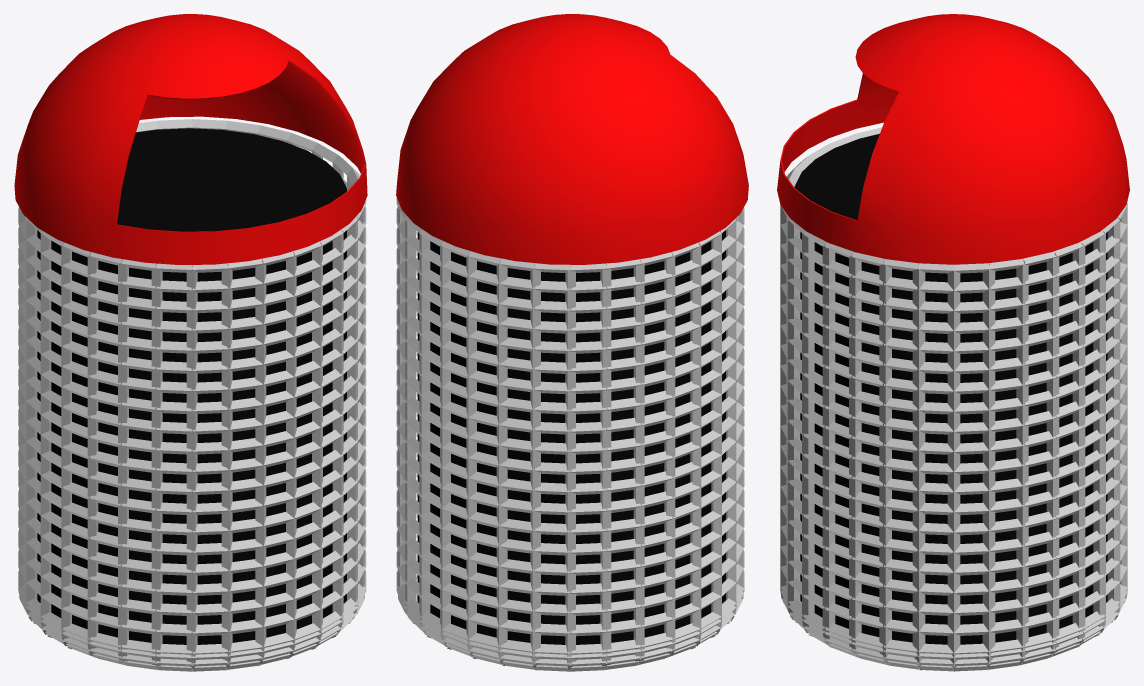
File: TrashcanBlender.fbx
The picture shows the model from 3 angles, left to right: view 1: azimuth 30°, elevation 25°; view 2: azimuth 150°, elevation 25°; view 3: azimuth 270°, elevation 25°; orthographic projection.
Parts seen in each view (by area): view 1: Outershell, Inside, top; view 2: Outershell, top, Inside; view 3: Outershell, top, Inside.
Part boxes in pixels (x1,y1,x2,y2): Outershell: (18,119,366,671); Inside: (37,128,346,644); top: (14,14,367,264); Outershell: (396,197,744,671); top: (396,14,748,264); Inside: (417,230,725,644); Outershell: (780,127,1127,671); top: (777,14,1129,264); Inside: (794,133,1107,644).
Size of the model in its own units: 42.71 by 76.69 by 42.71.
